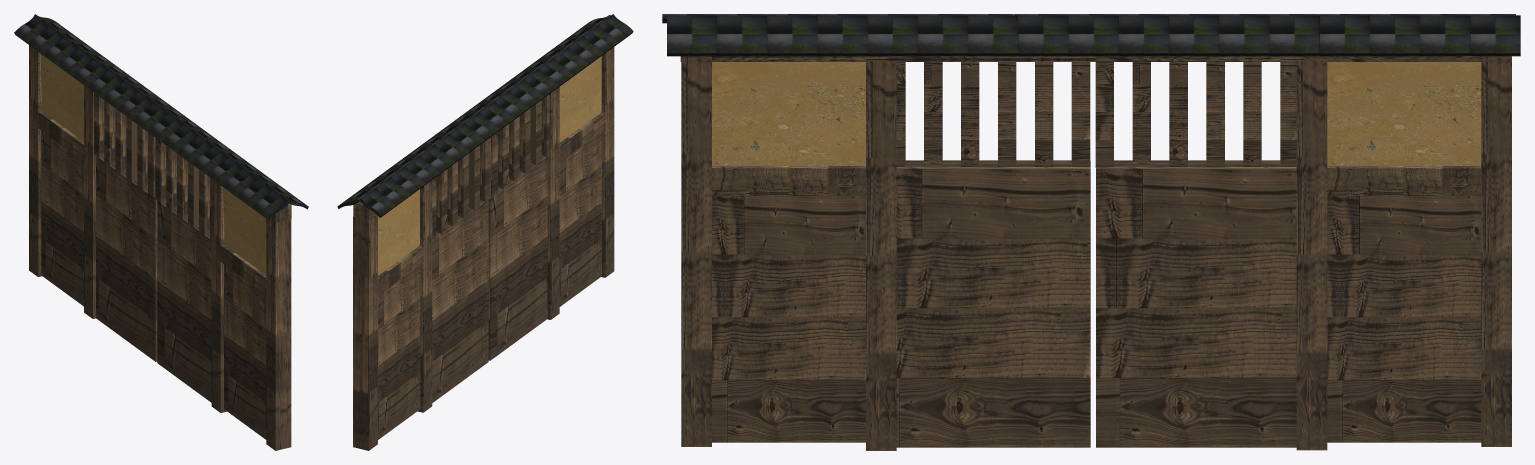
The picture shows the model from 3 angles, left to right: view 1: azimuth 30°, elevation 25°; view 2: azimuth 150°, elevation 25°; view 3: azimuth 270°, elevation 25°; orthographic projection. The views are drawn at different scales.
Parts seen in each view (by area): view 1: 門, 瓦.001, 瓦.004, 立方体.013, 立方体.014; view 2: 門, 瓦.001, 瓦.004, 立方体.013, 立方体.014; view 3: 門, 瓦.004, 立方体.014, 立方体.013, 瓦.001.
Boxes of the visible parts, x1=… form: 門: x1=29, y1=45, x2=291, y2=450; 瓦.001: x1=14, y1=15, x2=288, y2=220; 瓦.004: x1=34, y1=14, x2=308, y2=209; 立方体.013: x1=224, y1=188, x2=266, y2=274; 立方体.014: x1=41, y1=54, x2=83, y2=141; 門: x1=353, y1=47, x2=614, y2=450; 瓦.001: x1=360, y1=14, x2=633, y2=217; 瓦.004: x1=337, y1=15, x2=610, y2=208; 立方体.013: x1=559, y1=56, x2=601, y2=142; 立方体.014: x1=378, y1=189, x2=419, y2=275; 門: x1=680, y1=55, x2=1511, y2=450; 瓦.004: x1=667, y1=15, x2=1520, y2=56; 立方体.014: x1=1327, y1=62, x2=1481, y2=165; 立方体.013: x1=712, y1=62, x2=865, y2=165; 瓦.001: x1=662, y1=14, x2=1515, y2=23.
Bounding box in the file's own units: 272 × 1540 × 2790.
